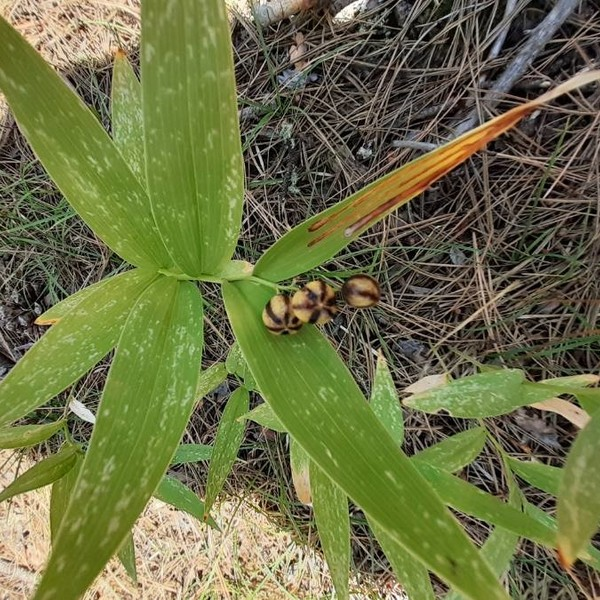obstacle: (1, 13, 467, 575)
